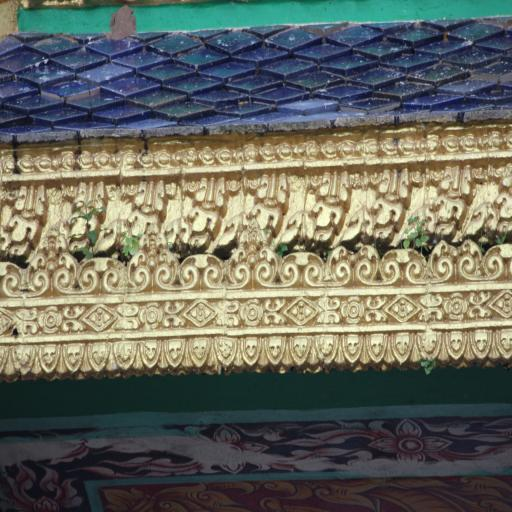hoa: (288, 297, 316, 326), (186, 300, 216, 326), (445, 292, 468, 322), (391, 294, 415, 322), (341, 297, 365, 323), (88, 308, 115, 331), (40, 306, 62, 334), (242, 299, 263, 328), (143, 304, 161, 331), (495, 291, 512, 317), (0, 310, 15, 336)
la: (421, 169, 475, 241), (367, 168, 411, 244), (0, 184, 45, 256), (62, 183, 108, 252), (313, 174, 355, 246), (186, 178, 227, 249), (128, 177, 168, 243), (252, 173, 291, 237), (457, 241, 512, 282), (52, 256, 105, 298), (200, 249, 249, 291), (105, 252, 152, 295), (298, 251, 354, 287), (402, 245, 452, 285), (5, 258, 52, 299), (252, 250, 298, 288), (154, 255, 199, 293), (356, 250, 402, 286), (136, 340, 164, 378), (289, 332, 314, 374), (417, 329, 444, 366), (390, 330, 417, 367), (214, 335, 239, 374), (314, 336, 340, 373), (9, 342, 37, 376), (263, 335, 288, 371), (366, 333, 389, 372), (468, 328, 494, 362), (341, 334, 364, 372), (239, 335, 262, 373), (163, 340, 187, 376), (416, 293, 445, 322), (113, 340, 136, 376), (188, 338, 211, 374), (88, 342, 111, 376), (61, 304, 87, 333), (468, 292, 494, 321), (215, 298, 240, 328), (39, 344, 61, 378), (446, 330, 468, 364), (61, 344, 84, 376), (15, 306, 40, 335), (115, 306, 142, 332), (316, 298, 342, 325), (264, 298, 290, 324), (365, 296, 391, 322), (161, 301, 186, 327), (494, 328, 512, 362)
